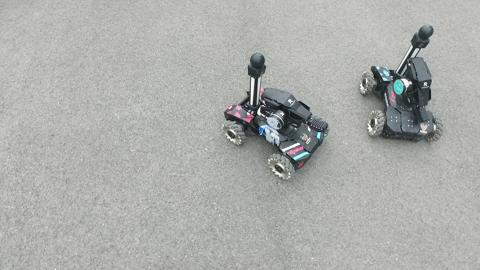chariot: (215, 49, 333, 187), (355, 19, 447, 146)
